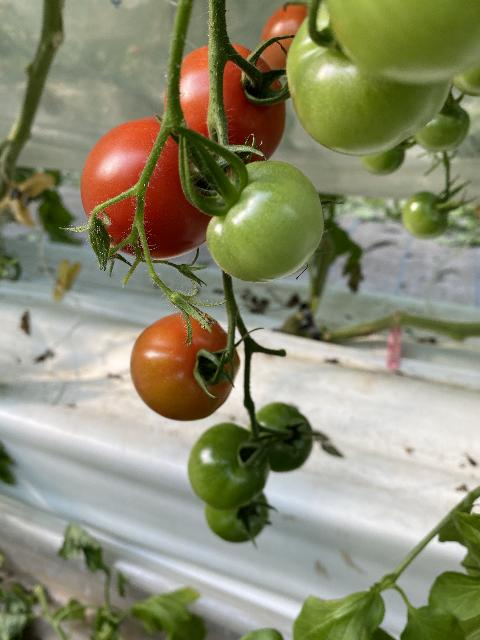l_fully_ripened: (80, 115, 228, 262), (162, 42, 287, 179)
l_green: (287, 0, 454, 157), (205, 159, 323, 284), (325, 0, 480, 85), (187, 424, 272, 511), (247, 401, 314, 472), (204, 490, 269, 543), (412, 98, 470, 154), (400, 190, 449, 240), (358, 141, 405, 175)
l_half_ripened: (129, 311, 241, 421), (259, 4, 318, 81)
